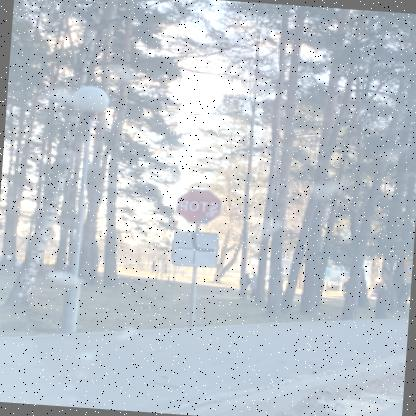speedlimit: (407, 262, 412, 275)
stop: (176, 186, 226, 224)
